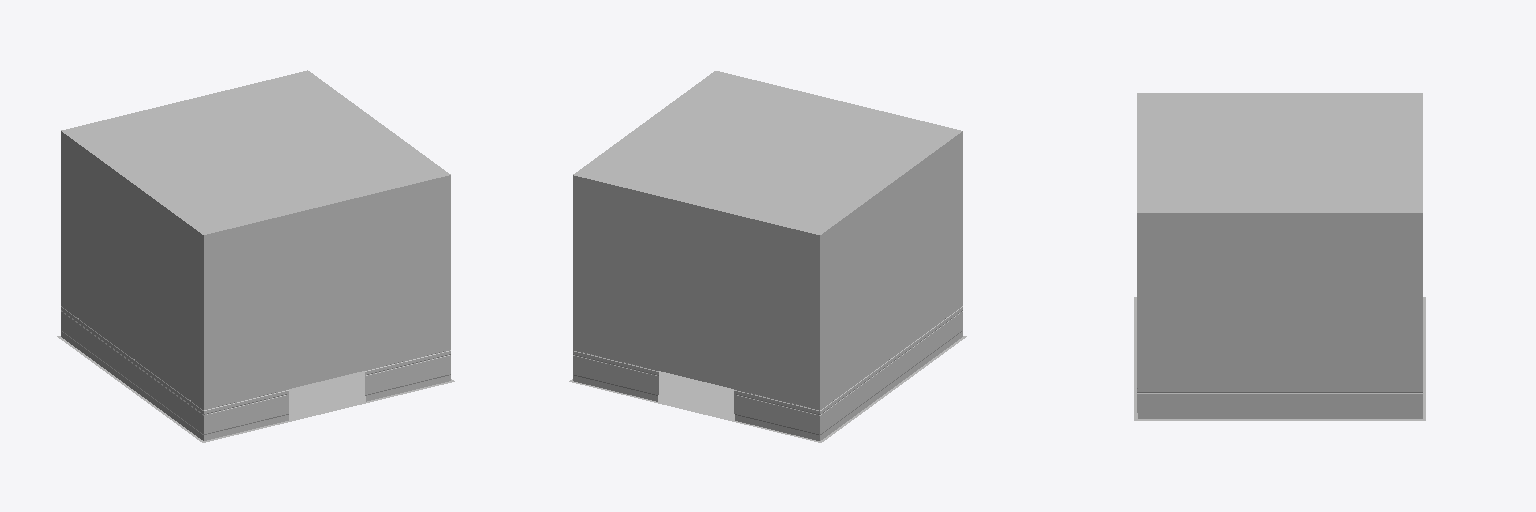
The model's file is Anubis_TwoDoorRoom_Par.obj.
The picture shows the model from 3 angles: view 1: azimuth 30°, elevation 25°; view 2: azimuth 150°, elevation 25°; view 3: azimuth 270°, elevation 25°; orthographic projection.
Visible parts, largest first — view 1: Walls, Ceiling, WallTrim, Floor; view 2: Walls, Ceiling, WallTrim, Floor; view 3: Walls, Ceiling, WallTrim, Floor.
Part boxes in pixels (x1,y1,x2,y2): Walls: (61,131,450,409); Ceiling: (61,70,450,234); WallTrim: (61,306,450,440); Floor: (57,336,454,442); Walls: (573,131,962,409); Ceiling: (573,71,961,234); WallTrim: (573,306,962,440); Floor: (569,336,966,442); Walls: (1137,213,1422,387); Ceiling: (1137,93,1422,212); WallTrim: (1137,388,1422,418); Floor: (1134,297,1425,420).
Bounding box in the file's own units: 10 × 7.8 × 10.